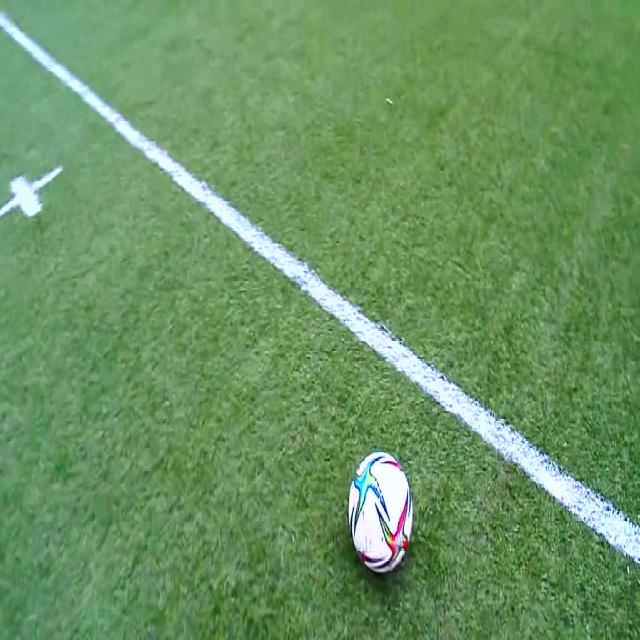ball: (349, 452, 412, 572)
